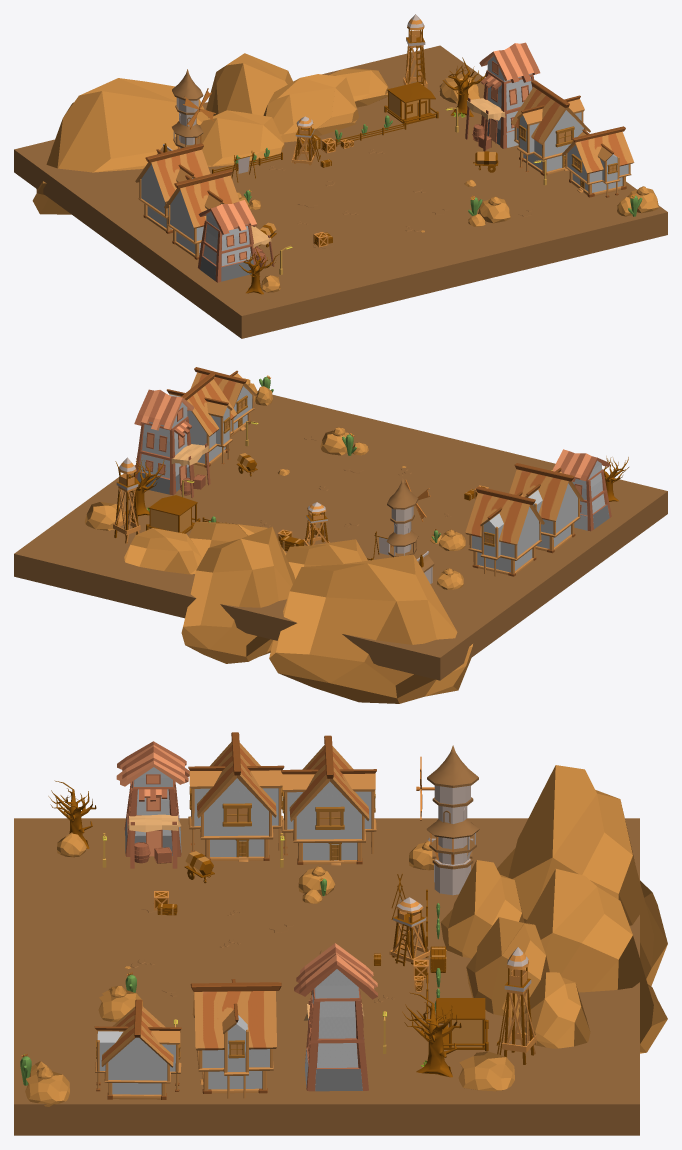
The model's file is desert env_city.fbx.
3 renders of one model, top to bottom at view 1: azimuth 30°, elevation 25°; view 2: azimuth 150°, elevation 25°; view 3: azimuth 270°, elevation 25°, orthographic. The views are drawn at different scales.
Parts seen in each view (by area): view 1: pPlane1, group59, house_07, house_05, group22, house_03, house_06, group19, group60, house_04, house_08, house_4 (+8 smaller); view 2: pPlane1, group59, group60, house_07, house_08, house_04, house_05, group21, house_03, house_4, group19, house_06 (+7 smaller); view 3: pPlane1, group59, group60, house_08, house_04, house_05, house_07, house_03, house_06, house_4, group22, group19 (+10 smaller).
Boxes of the visible parts, x1,y1,x2,y2 form: pPlane1: (14, 45, 667, 338); group59: (32, 78, 208, 214); house_07: (465, 42, 540, 151); house_05: (511, 80, 590, 175); group22: (263, 74, 358, 142); house_03: (198, 200, 274, 282); house_06: (562, 126, 634, 197); group19: (197, 110, 284, 166); group60: (206, 53, 292, 115); house_04: (164, 169, 239, 259); house_08: (135, 143, 210, 233); house_4: (157, 69, 215, 154); pPlane1: (14, 391, 667, 680); group59: (269, 554, 472, 703); group60: (181, 526, 295, 663); house_07: (134, 389, 210, 497); house_08: (465, 486, 544, 576); house_04: (509, 463, 583, 553); house_05: (166, 373, 237, 467); group21: (124, 528, 202, 574); house_03: (552, 449, 611, 531); house_4: (386, 478, 434, 583); group19: (285, 539, 367, 578); house_06: (190, 367, 257, 436); pPlane1: (14, 818, 639, 1135); group59: (497, 765, 667, 986); group60: (525, 869, 667, 1053); house_08: (281, 735, 376, 865); house_04: (188, 732, 284, 861); house_05: (190, 979, 281, 1098); house_07: (294, 943, 377, 1091); house_03: (116, 741, 189, 868); house_06: (94, 999, 181, 1099); house_4: (416, 745, 479, 895); group22: (466, 917, 549, 1018); group19: (440, 860, 524, 958).
Bounding box in the file's own units: 872 × 328 × 836.
13 materials, 2 textured.
